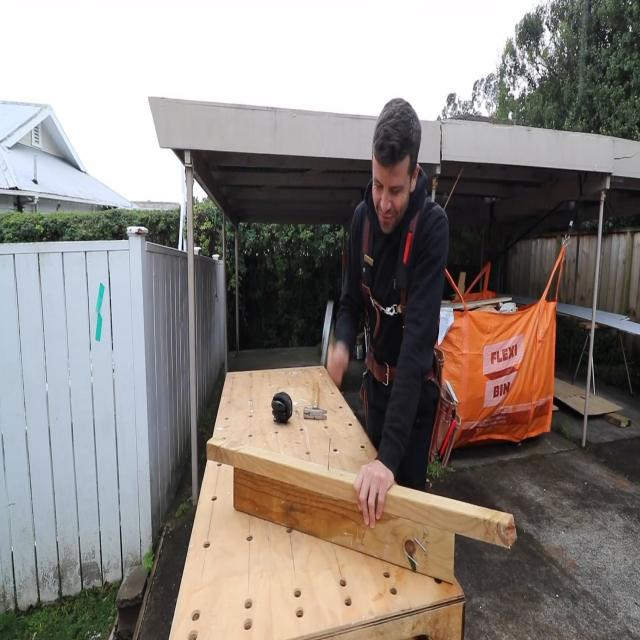hammer: (303, 378, 327, 422)
